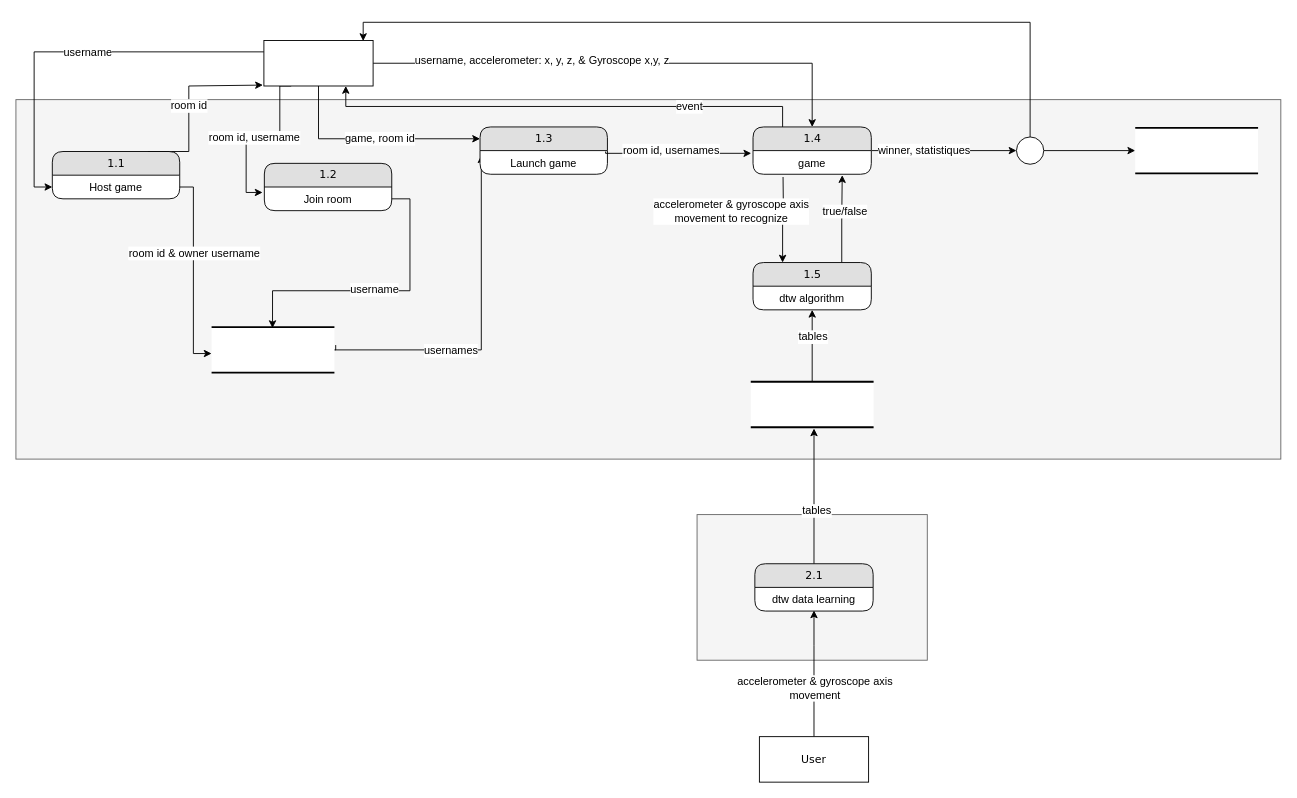
Some shapes in this 1297 by 798 pixel diagram are drawn without their labels. Each missing label, with the centre of its shape:
DTW algorithm tables: point 811,404
Player: point 318,63
Rooms: point 272,349
statistiques: point 1196,150
